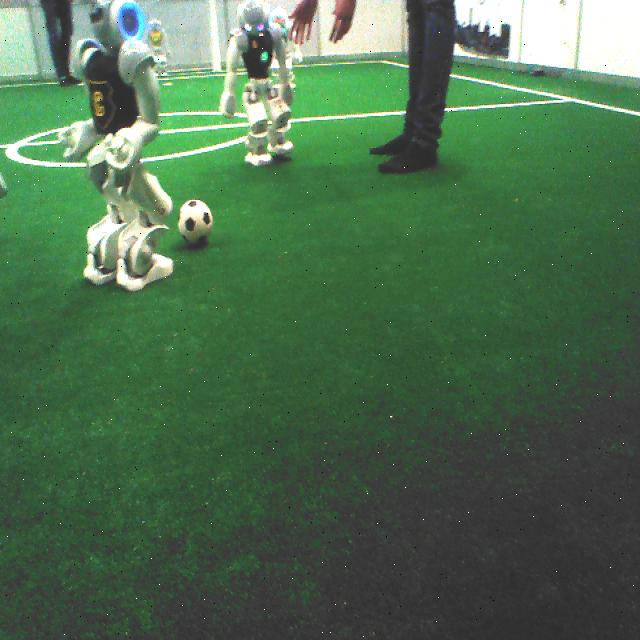ball: (172, 192, 218, 261)
goalpost: (205, 0, 223, 72)
